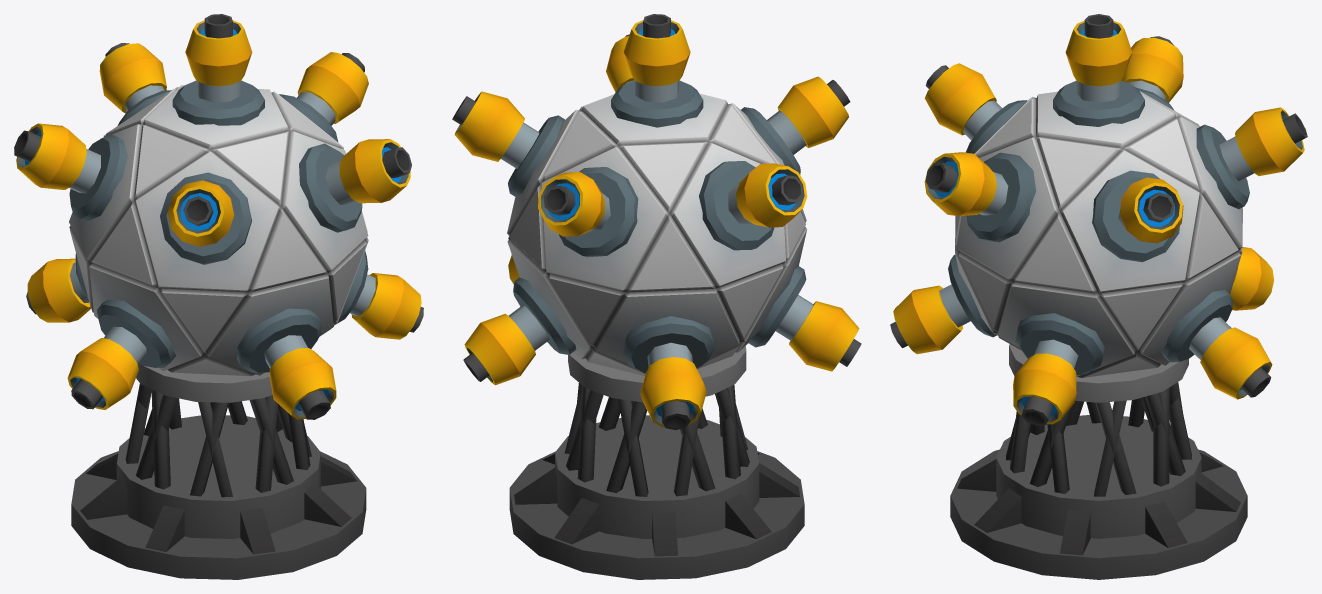
Rendered from Generator_013.fbx.
The picture shows the model from 3 angles, left to right: view 1: azimuth 30°, elevation 25°; view 2: azimuth 150°, elevation 25°; view 3: azimuth 270°, elevation 25°; orthographic projection.
Parts seen in each view (by area): view 1: Generator_013; view 2: Generator_013; view 3: Generator_013.
Boxes of the visible parts, bbox=[...] form: Generator_013: bbox=[14, 14, 423, 579]; Generator_013: bbox=[452, 14, 861, 579]; Generator_013: bbox=[890, 14, 1307, 579].
Bounding box in the file's own units: 219 × 229 × 301.
